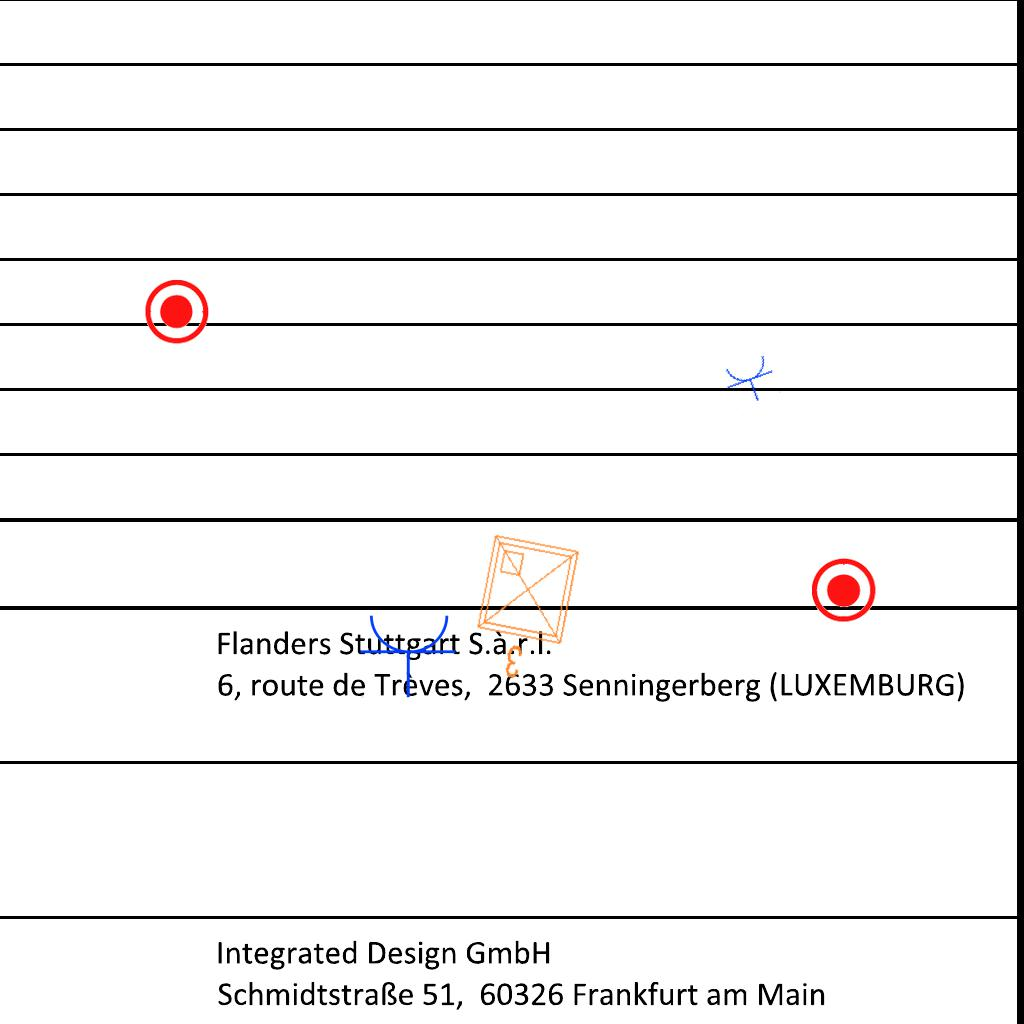Einbaudownlights_LED_Konferenzraeume: (460, 526, 592, 694)
Schukosteckdose_einfach: (359, 611, 459, 698), (720, 351, 782, 410)
Taster: (812, 558, 878, 624), (143, 280, 209, 346)
